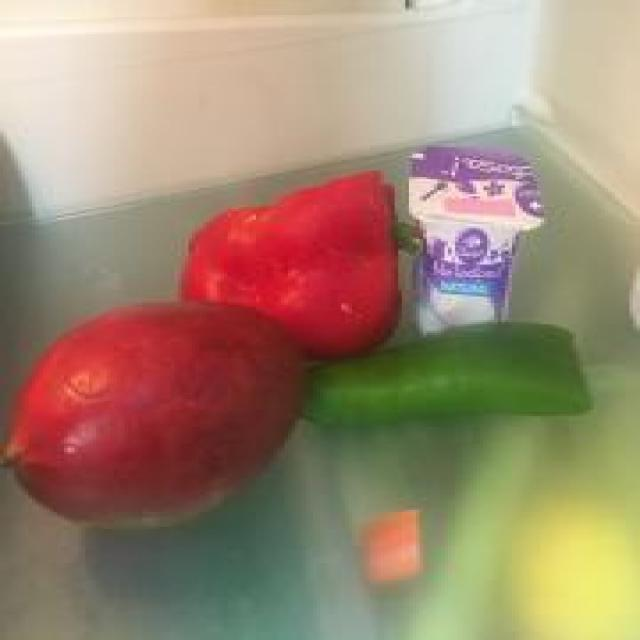bell_pepper: (185, 169, 416, 354), (300, 327, 582, 422)
mango: (2, 302, 304, 521)
yogurt: (416, 142, 523, 329)
